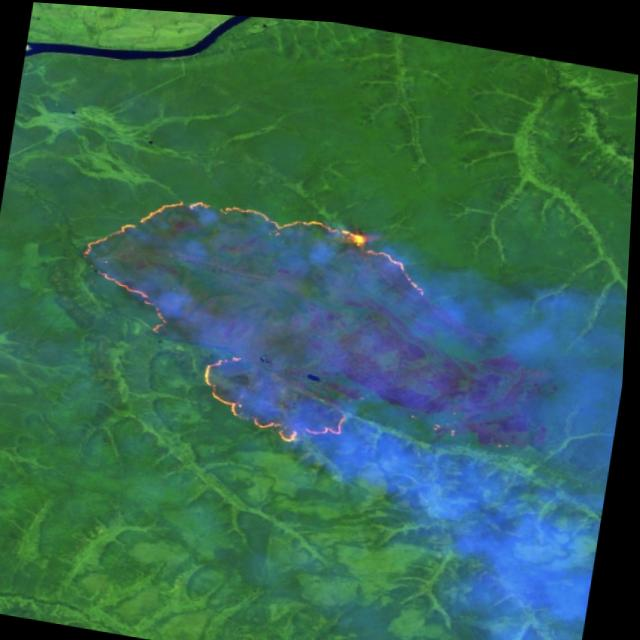fire: (47, 169, 472, 466)
